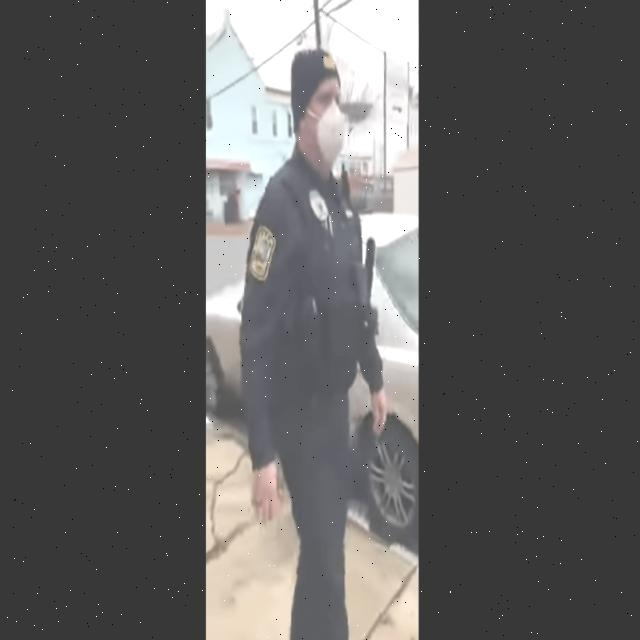police: (245, 31, 398, 640)
